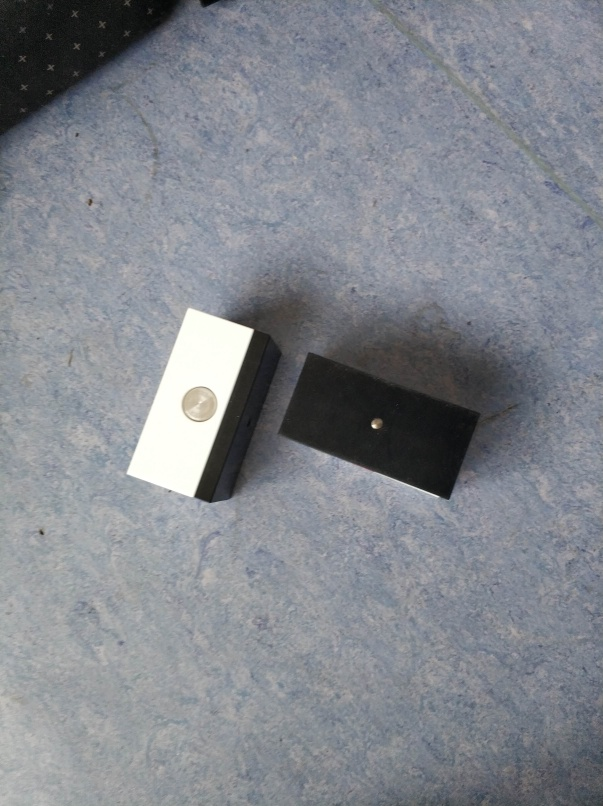black+white+silver: (122, 302, 282, 507)
